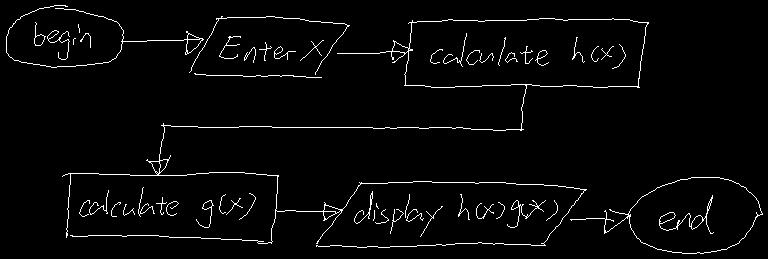arrow: (146, 85, 526, 174), (121, 31, 203, 54), (337, 40, 412, 62), (570, 209, 630, 233), (275, 202, 341, 220)
data: (316, 181, 586, 247), (189, 16, 349, 77)
process: (404, 18, 648, 87), (62, 172, 278, 243)
terminator: (627, 177, 762, 253), (6, 5, 123, 67)
text: (354, 191, 557, 236), (79, 187, 255, 227), (430, 33, 625, 68), (219, 36, 323, 62), (34, 22, 90, 59), (659, 195, 713, 233)
